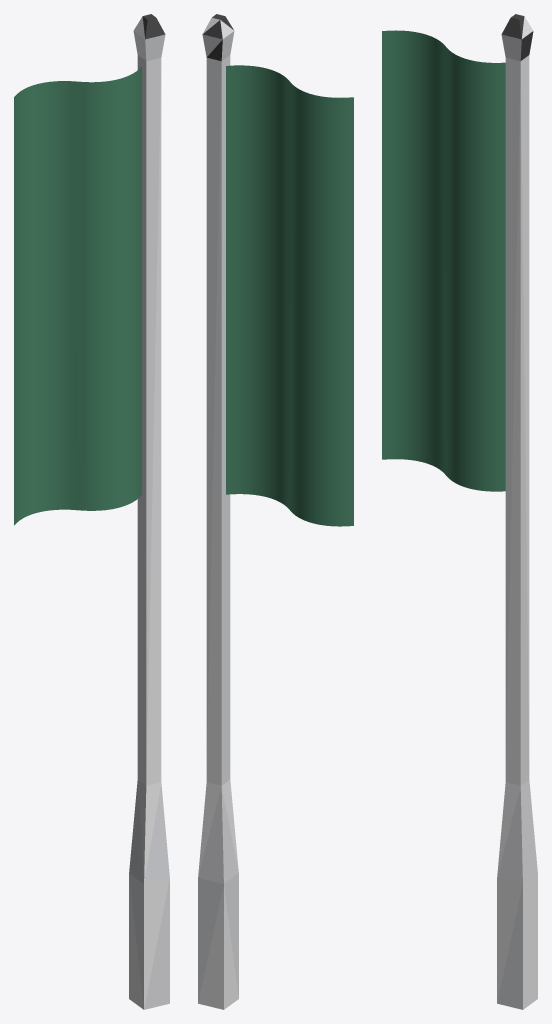
Rendered from flagGreen.obj.
3 renders of one model, left to right at view 1: azimuth 30°, elevation 25°; view 2: azimuth 150°, elevation 25°; view 3: azimuth 330°, elevation 25°, orthographic.
Visible parts, largest first — view 1: flagGreen; view 2: flagGreen; view 3: flagGreen.
Part boxes in pixels (box(x1,y1,x2,y2)): flagGreen: box(14, 14, 169, 1009); flagGreen: box(198, 14, 353, 1009); flagGreen: box(382, 14, 537, 1009).
Size of the model in its own units: 0.1972 by 1.25 by 0.0352.
